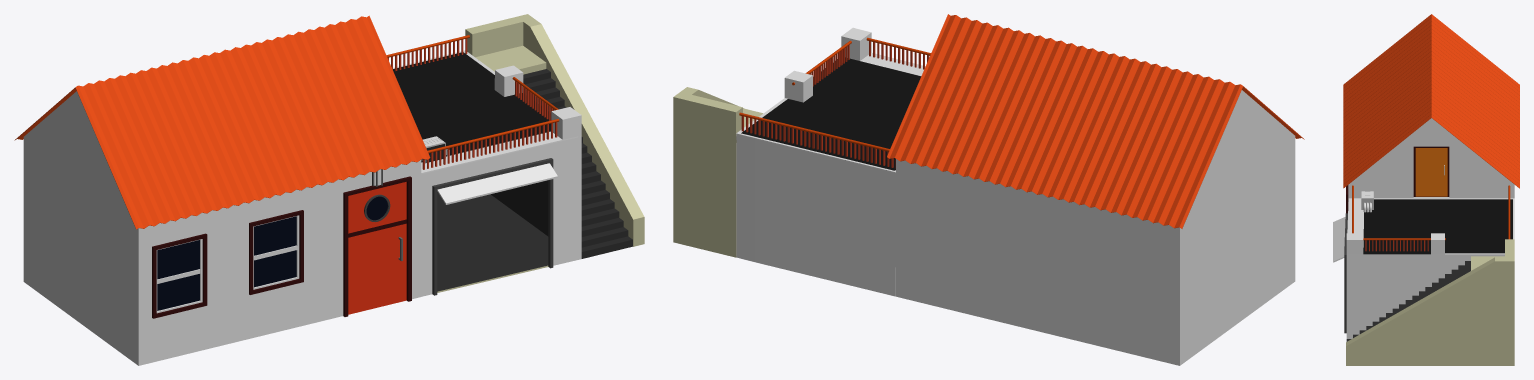
File: house_2.fbx
3 views of the same model, side by side, from view 1: azimuth 30°, elevation 25°; view 2: azimuth 150°, elevation 25°; view 3: azimuth 270°, elevation 25° (orthographic). The views are drawn at different scales.
Visible parts, largest first — view 1: Plane.024; view 2: Plane.024; view 3: Plane.024.
Boxes of the visible parts, x1=… form: Plane.024: x1=14, y1=14, x2=644, y2=365; Plane.024: x1=673, y1=14, x2=1304, y2=365; Plane.024: x1=1333, y1=14, x2=1519, y2=365.
Bounding box in the file's own units: 939 × 421 × 412.
